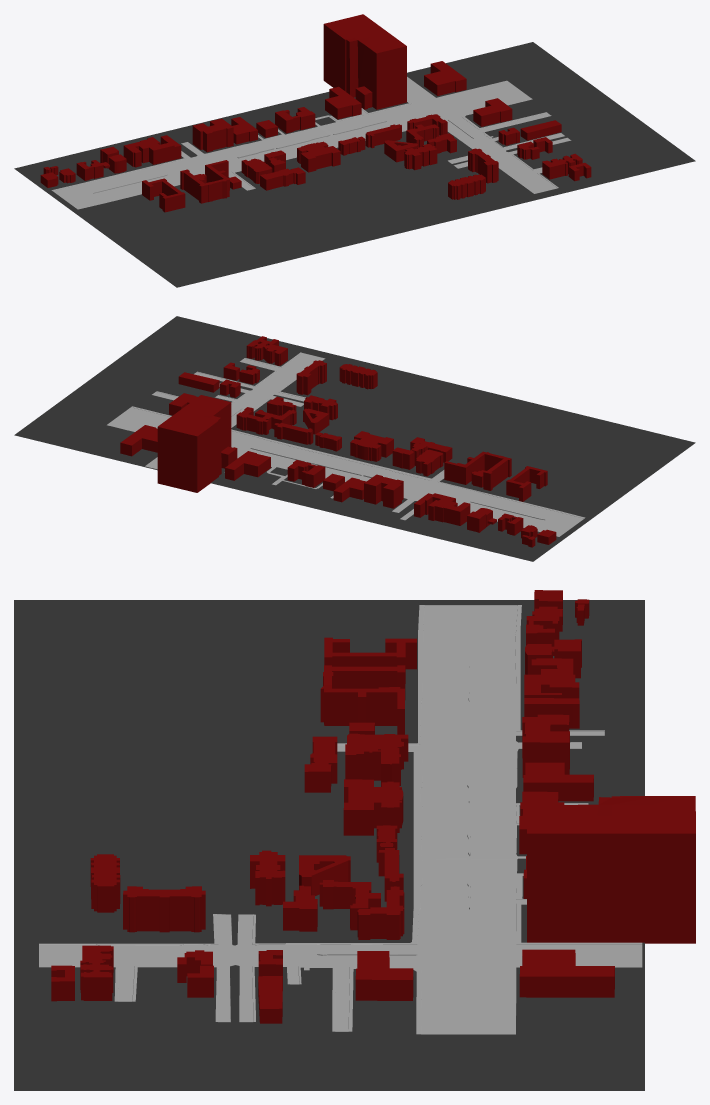
The model's file is GNVScene.fbx.
The picture shows the model from 3 angles, top to bottom: view 1: azimuth 30°, elevation 25°; view 2: azimuth 150°, elevation 25°; view 3: azimuth 270°, elevation 25°; orthographic projection. The views are drawn at different scales.
Visible parts, largest first — view 1: Plane, Buildings3, Road_re; view 2: Plane, Buildings3, Road_re; view 3: Plane, Buildings3, Road_re.
Part boxes in pixels (x1,y1,x2,y2): Plane: (14, 42, 695, 287); Buildings3: (40, 14, 591, 212); Road_re: (51, 76, 571, 209); Plane: (14, 316, 695, 561); Buildings3: (120, 336, 556, 547); Road_re: (107, 352, 585, 536); Plane: (14, 600, 644, 1090); Buildings3: (51, 590, 695, 1023); Road_re: (39, 605, 642, 1034).
Size of the model in its own units: 1860 by 194 by 1092.
